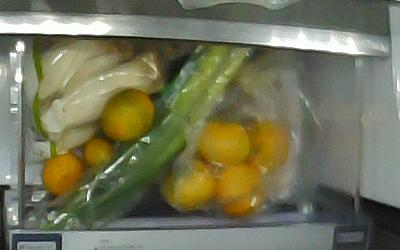tangerine: (99, 87, 155, 141), (39, 150, 83, 196), (83, 137, 113, 166)
tangerine_vinyl: (158, 156, 214, 210), (213, 161, 264, 217), (242, 118, 291, 172), (195, 118, 250, 166)
